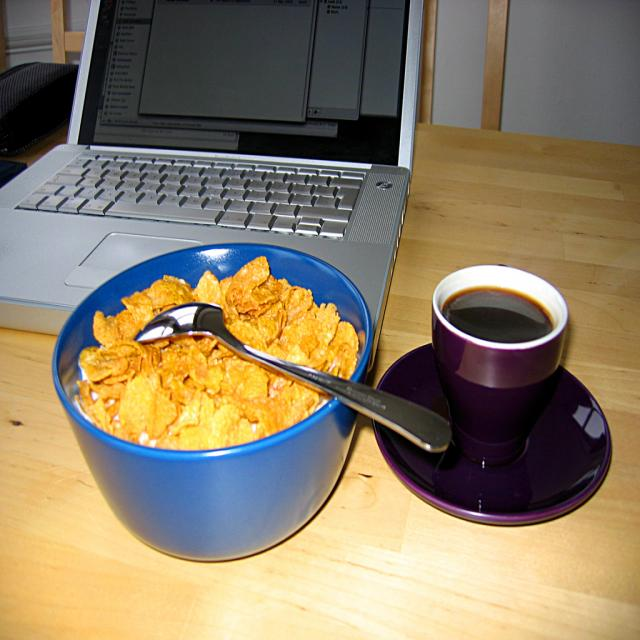Coffee: (443, 290, 552, 345)
Tea: (442, 288, 554, 344)
